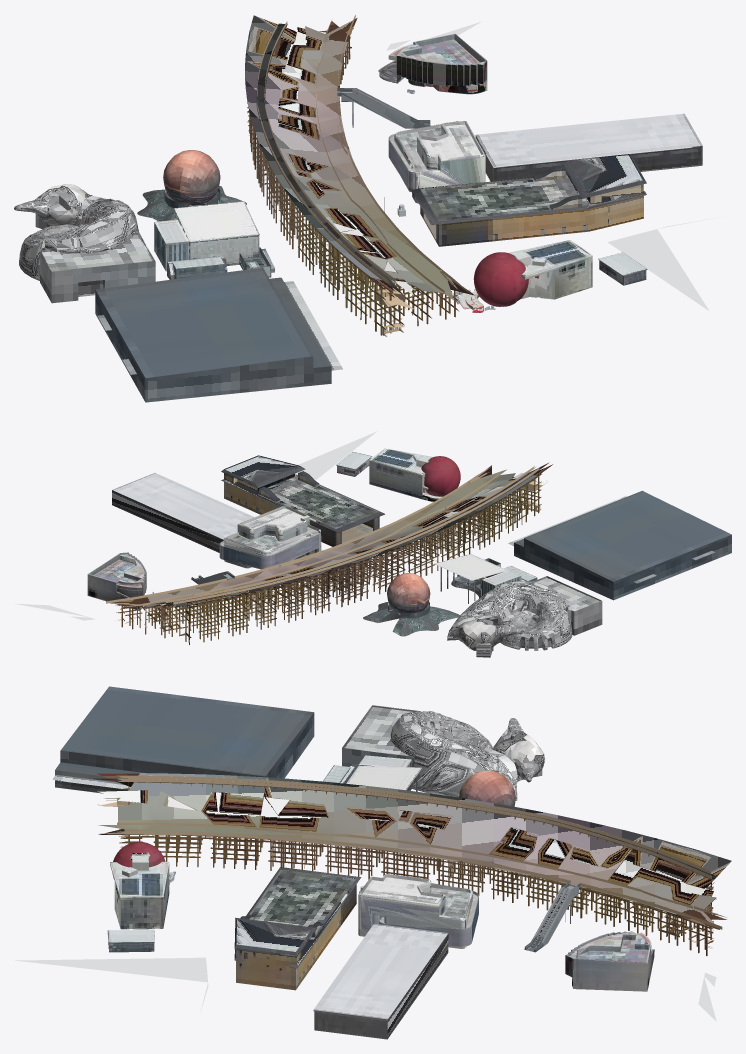
3 views of the same model, one above another, from view 1: azimuth 30°, elevation 25°; view 2: azimuth 150°, elevation 25°; view 3: azimuth 270°, elevation 25° (orthographic). The views are drawn at different scales.
Visible parts, largest first — view 1: Buildings_建物パビリオン, GrandRoofRing_大屋根リング; view 2: Buildings_建物パビリオン, GrandRoofRing_大屋根リング; view 3: Buildings_建物パビリオン, GrandRoofRing_大屋根リング.
Boxes of the visible parts, box(x1,y1,x2,y2) form: Buildings_建物パビリオン: box(14, 21, 722, 402); GrandRoofRing_大屋根リング: box(245, 15, 474, 336); Buildings_建物パビリオン: box(15, 431, 731, 657); GrandRoofRing_大屋根リング: box(106, 463, 552, 644); Buildings_建物パビリオン: box(15, 686, 716, 1039); GrandRoofRing_大屋根リング: box(92, 773, 731, 955).
Bounding box in the file's own units: 265 × 23.58 × 244.
Materials: 18 (15 with a texture image).
